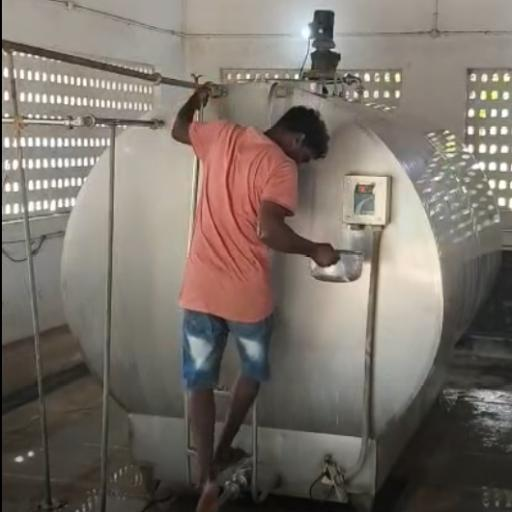silo: (201, 77, 503, 499), (60, 88, 196, 487)
vessel: (311, 248, 365, 285)
